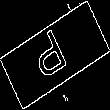P_SE: (32, 24, 78, 86)
